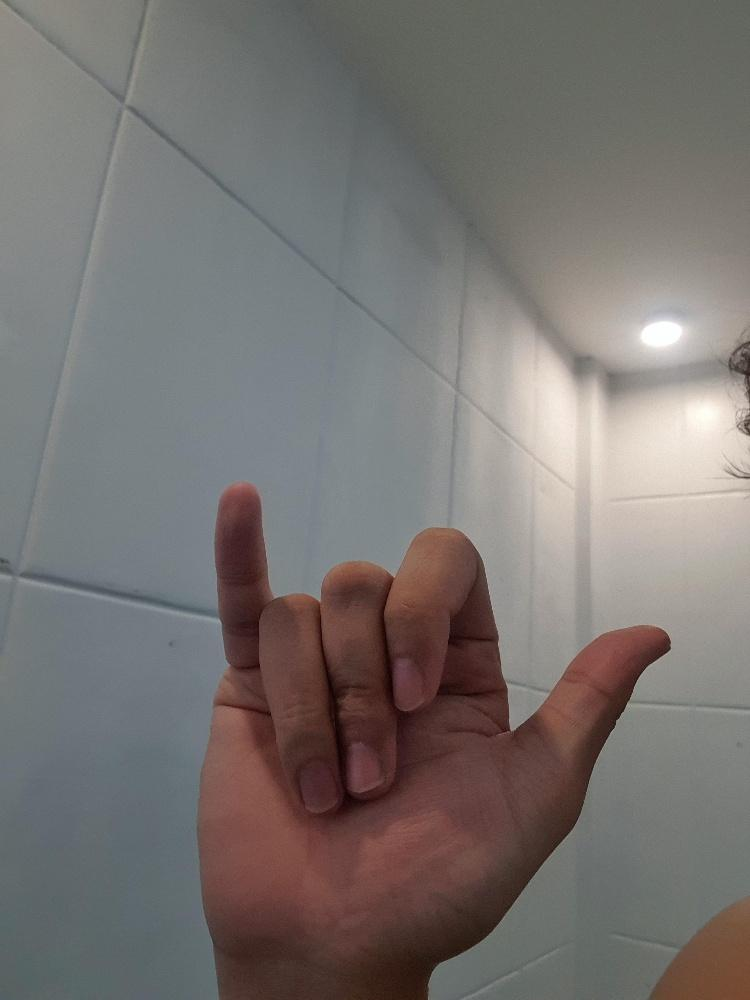y: (195, 476, 673, 983)
